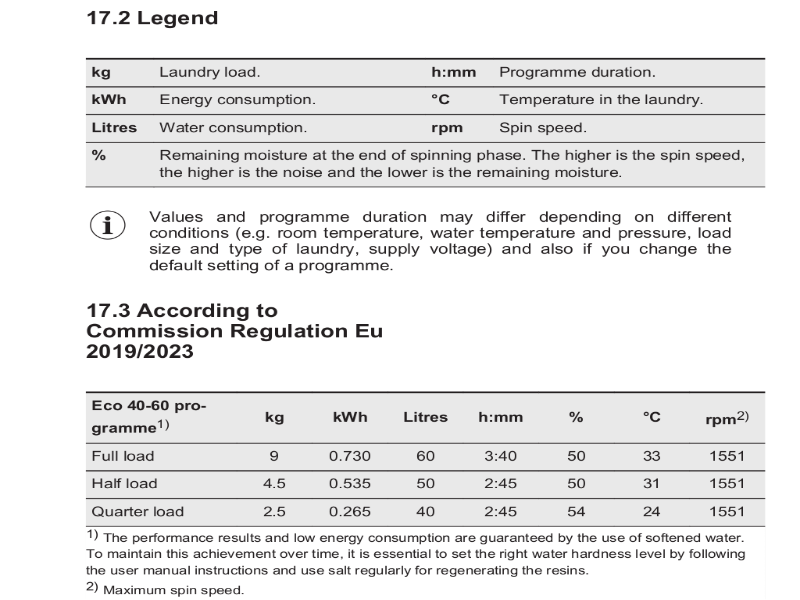borderless: (76, 47, 781, 197), (74, 383, 776, 529)
cell: (154, 145, 753, 183), (87, 396, 211, 437), (497, 91, 711, 109), (154, 117, 311, 138), (154, 92, 318, 110), (497, 64, 659, 81), (156, 60, 262, 83), (87, 504, 188, 522), (498, 119, 590, 136), (699, 405, 752, 433), (87, 475, 166, 493), (87, 448, 160, 465), (425, 61, 483, 82), (400, 407, 449, 428), (476, 407, 525, 428), (87, 118, 140, 137), (331, 406, 372, 430), (324, 448, 376, 465), (324, 475, 376, 492), (324, 501, 376, 518), (426, 89, 462, 111), (707, 447, 748, 466), (260, 407, 292, 430), (636, 404, 666, 428), (408, 473, 444, 493), (410, 501, 446, 521), (427, 120, 469, 137), (85, 91, 129, 107), (479, 448, 523, 464), (478, 474, 522, 490), (478, 502, 522, 518), (707, 476, 749, 492), (85, 64, 120, 83), (708, 504, 749, 520), (408, 447, 443, 465), (257, 502, 288, 522), (562, 405, 587, 429), (259, 474, 288, 494), (87, 145, 114, 166), (563, 448, 590, 465), (563, 473, 590, 490), (563, 503, 590, 520), (638, 447, 665, 464), (638, 474, 665, 491), (638, 502, 665, 519), (263, 448, 284, 466)
